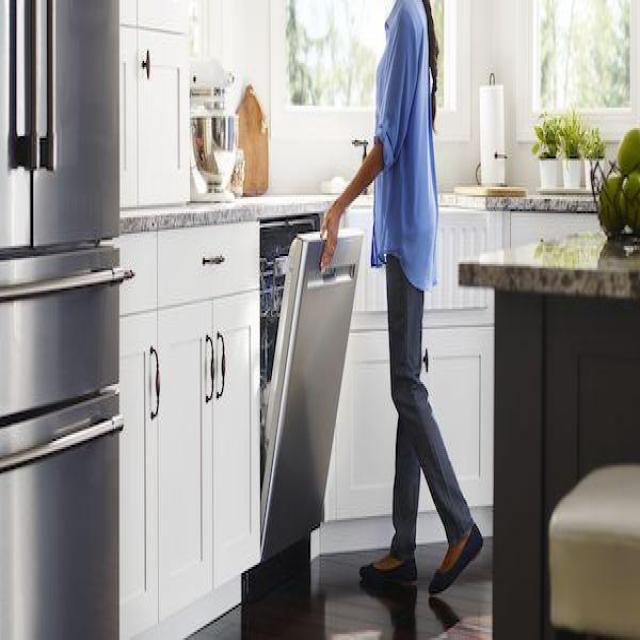dishwasher: (248, 192, 367, 602)
